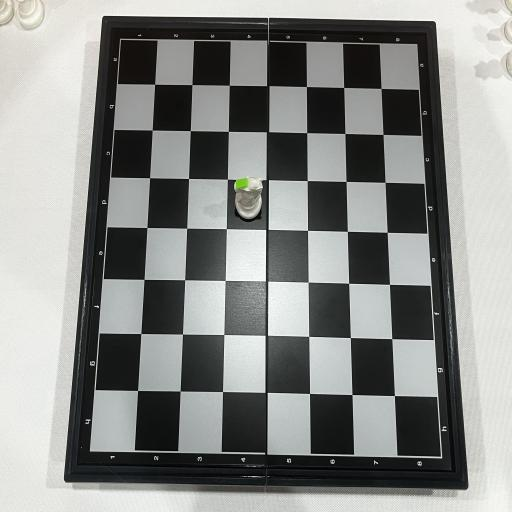White knight: (234, 176, 262, 220)
